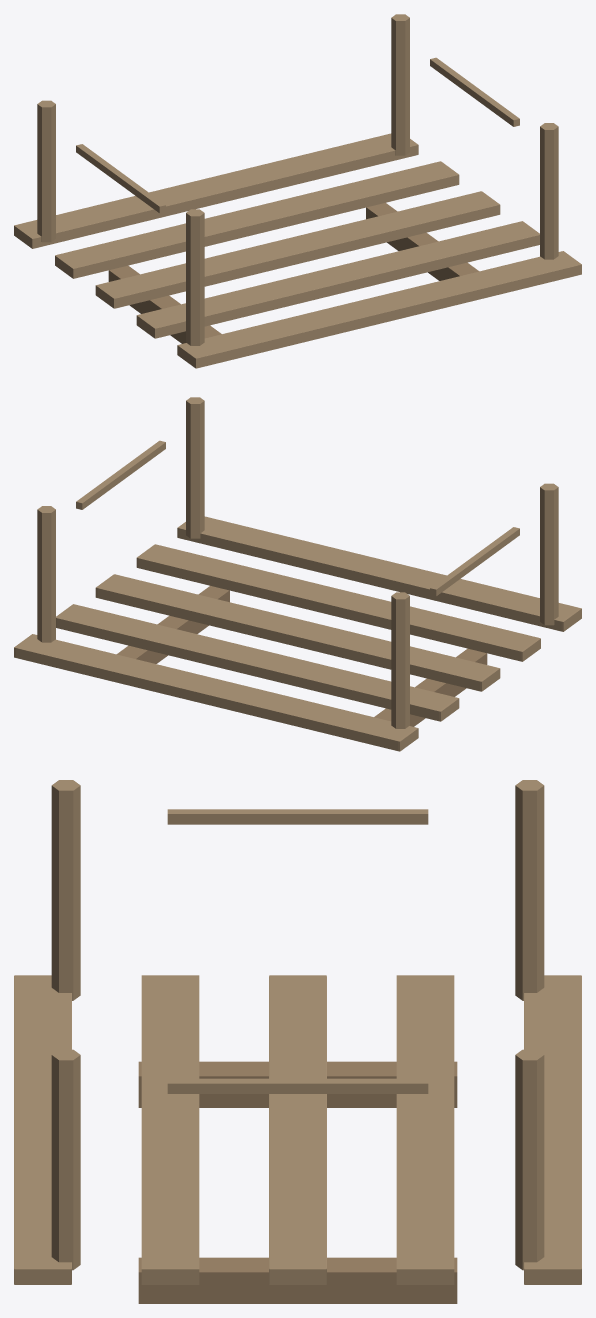
Rendered from wooden_bridge.glb.
The picture shows the model from 3 angles, top to bottom: view 1: azimuth 30°, elevation 25°; view 2: azimuth 150°, elevation 25°; view 3: azimuth 270°, elevation 25°; orthographic projection. The views are drawn at different scales.
Visible parts, largest first — view 1: DeckPlank_0, DeckPlank_2, DeckPlank_3, DeckPlank_1, DeckPlank_4, Post_-0.55_0.4, Post_0.55_0.4, Post_-0.55_-0.4, Post_0.55_-0.4, Beam_0.4, Rail_0.55, Rail_-0.55 (+1 smaller); view 2: DeckPlank_4, DeckPlank_2, DeckPlank_1, DeckPlank_3, DeckPlank_0, Post_-0.55_-0.4, Post_0.55_-0.4, Post_-0.55_0.4, Post_0.55_0.4, Beam_0.4, Rail_0.55, Rail_-0.55 (+1 smaller); view 3: DeckPlank_1, DeckPlank_3, DeckPlank_2, DeckPlank_0, DeckPlank_4, Beam_0.4, Post_0.55_-0.4, Post_0.55_0.4, Post_-0.55_-0.4, Post_-0.55_0.4, Beam_-0.4, Rail_-0.55 (+1 smaller).
Boxes of the visible parts, <box> form: DeckPlank_0: <box>177,251,581,368</box>; DeckPlank_2: <box>95,191,500,308</box>; DeckPlank_3: <box>55,161,459,278</box>; DeckPlank_1: <box>136,221,539,338</box>; DeckPlank_4: <box>14,133,418,248</box>; Post_-0.55_0.4: <box>37,100,55,242</box>; Post_0.55_0.4: <box>391,14,409,155</box>; Post_-0.55_-0.4: <box>186,209,204,345</box>; Post_0.55_-0.4: <box>540,123,558,259</box>; Beam_0.4: <box>366,202,479,280</box>; Rail_0.55: <box>430,57,519,126</box>; Rail_-0.55: <box>76,144,165,213</box>; DeckPlank_4: <box>14,634,418,751</box>; DeckPlank_2: <box>95,574,500,691</box>; DeckPlank_1: <box>136,544,540,661</box>; DeckPlank_3: <box>56,604,459,721</box>; DeckPlank_0: <box>177,516,581,631</box>; Post_-0.55_-0.4: <box>540,483,558,625</box>; Post_0.55_-0.4: <box>186,397,204,538</box>; Post_-0.55_0.4: <box>391,592,409,728</box>; Post_0.55_0.4: <box>37,506,55,642</box>; Beam_0.4: <box>116,585,229,663</box>; Rail_0.55: <box>76,440,165,509</box>; Rail_-0.55: <box>430,527,519,596</box>; DeckPlank_1: <box>141,975,199,1284</box>; DeckPlank_3: <box>396,975,454,1284</box>; DeckPlank_2: <box>269,975,326,1284</box>; DeckPlank_0: <box>14,975,71,1284</box>; DeckPlank_4: <box>524,975,581,1284</box>; Beam_0.4: <box>138,1257,457,1303</box>; Post_0.55_-0.4: <box>51,1049,80,1270</box>; Post_0.55_0.4: <box>515,1049,544,1270</box>; Post_-0.55_-0.4: <box>51,780,80,1000</box>; Post_-0.55_0.4: <box>515,780,544,1000</box>; Beam_-0.4: <box>138,1061,457,1107</box>; Rail_-0.55: <box>167,809,428,824</box>.
Bounding box in the file's own units: 1.2 × 0.53 × 0.98.
